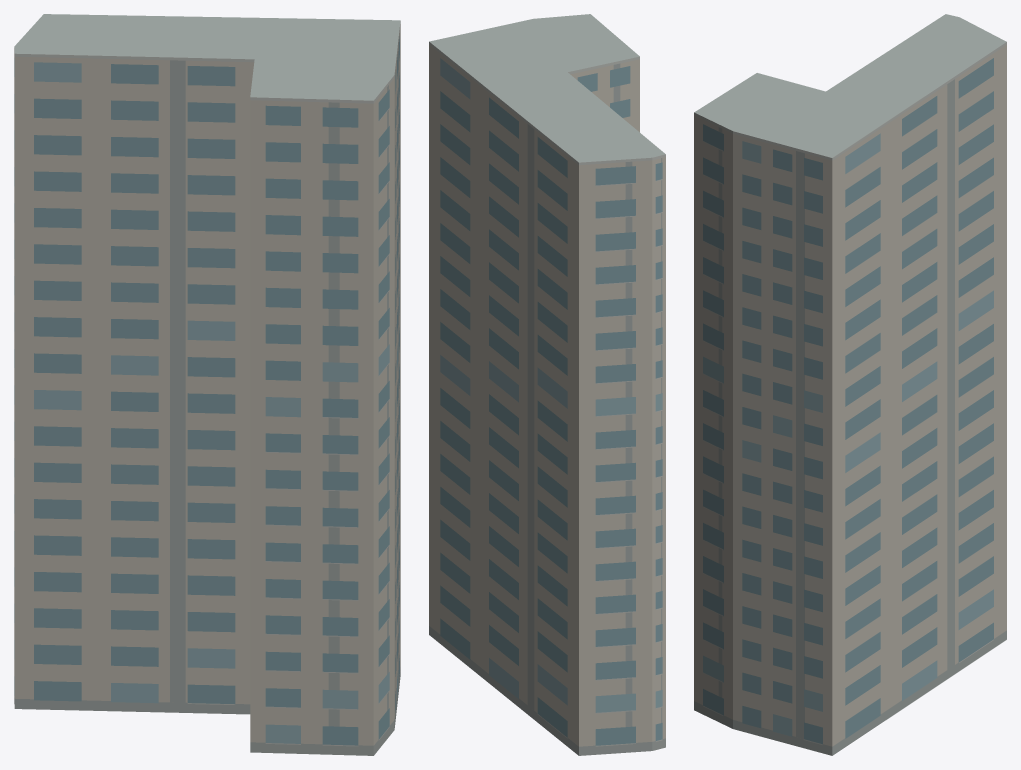
File: survey-upis-32681321.glb
3 views of the same model, side by side, from view 1: azimuth 30°, elevation 25°; view 2: azimuth 150°, elevation 25°; view 3: azimuth 270°, elevation 25° (orthographic). The views are drawn at different scales.
Parts seen in each view (by area): view 1: survey-upis-32681321.tmp; view 2: survey-upis-32681321.tmp; view 3: survey-upis-32681321.tmp.
Boxes of the visible parts, box(x1,y1,x2,y2) form: survey-upis-32681321.tmp: box(14, 14, 400, 755); survey-upis-32681321.tmp: box(429, 14, 665, 755); survey-upis-32681321.tmp: box(694, 14, 1006, 755).
Bounding box in the file's own units: 28.39 × 54.9 × 26.04.
